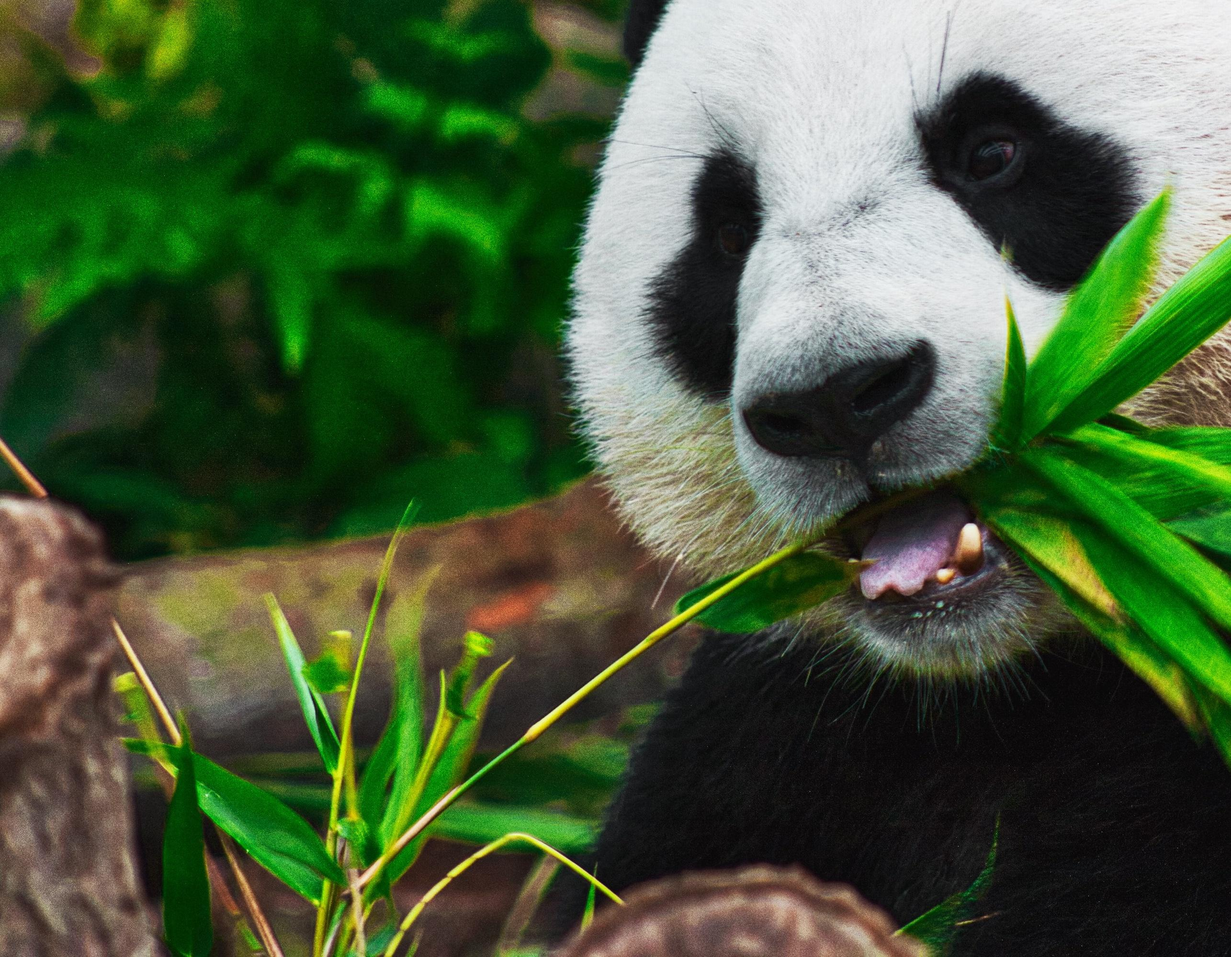panda: (568, 0, 1231, 901)
